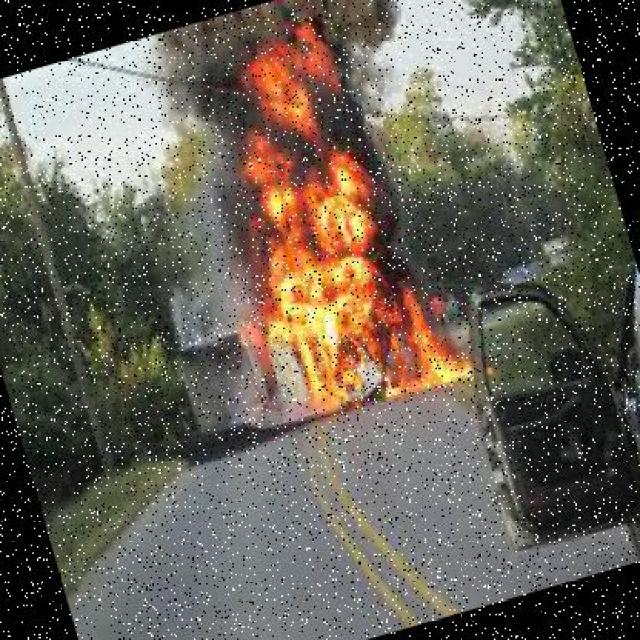fire: (182, 9, 480, 436)
